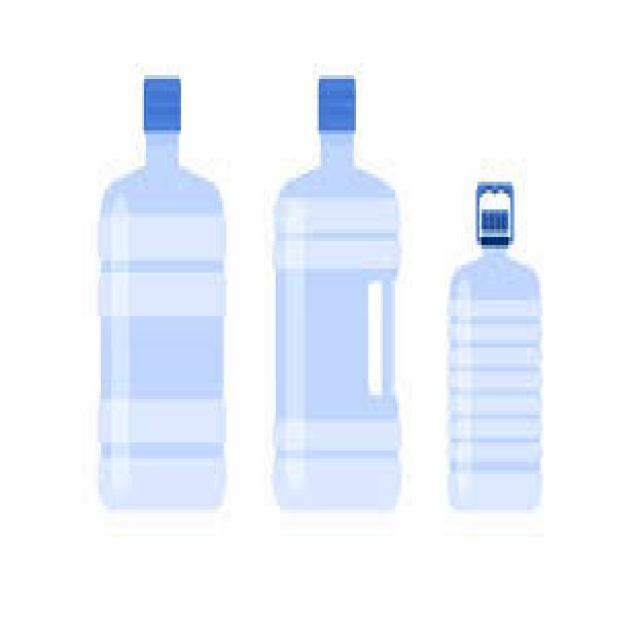Galon: (94, 71, 228, 510), (270, 71, 404, 510), (444, 178, 544, 510)
